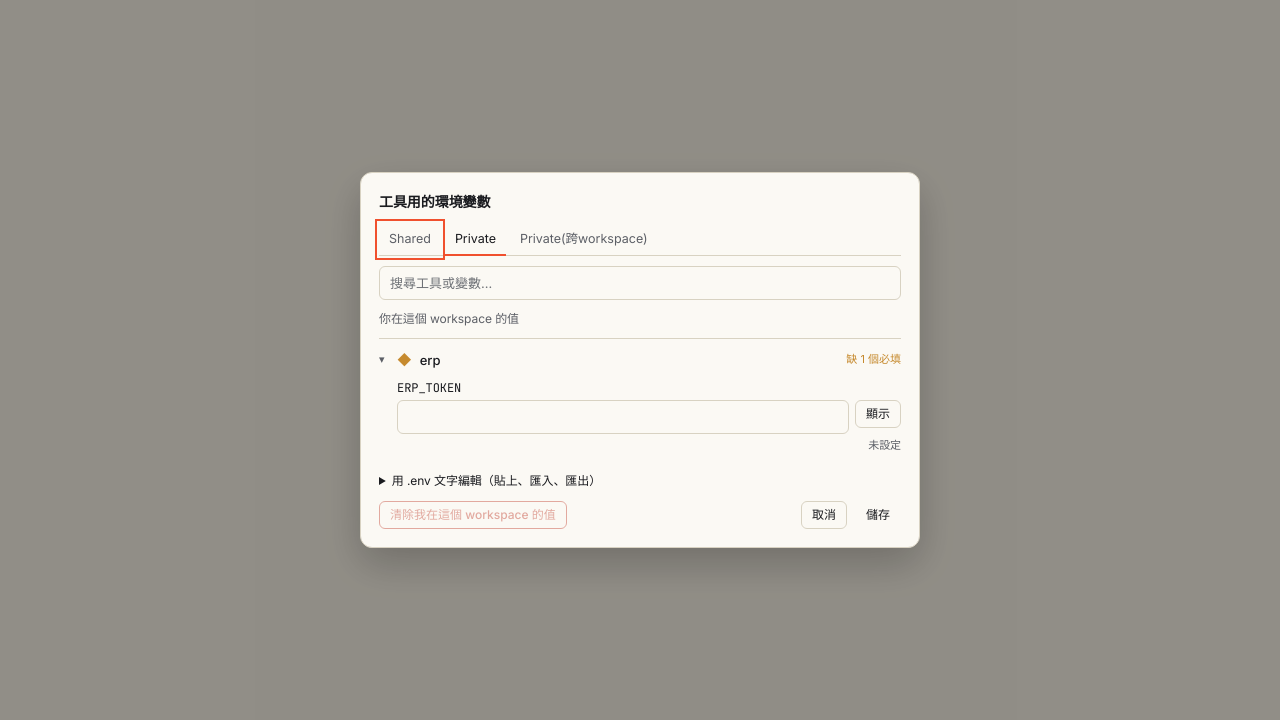
Test: the copy › says what each private tab holds, in one noun
Check: the text "你在這個 workspace 的值" is shown, box [379, 311, 519, 326]
Click the tab "Private(跨workspace)".
click(584, 239)  # box [510, 223, 658, 256]
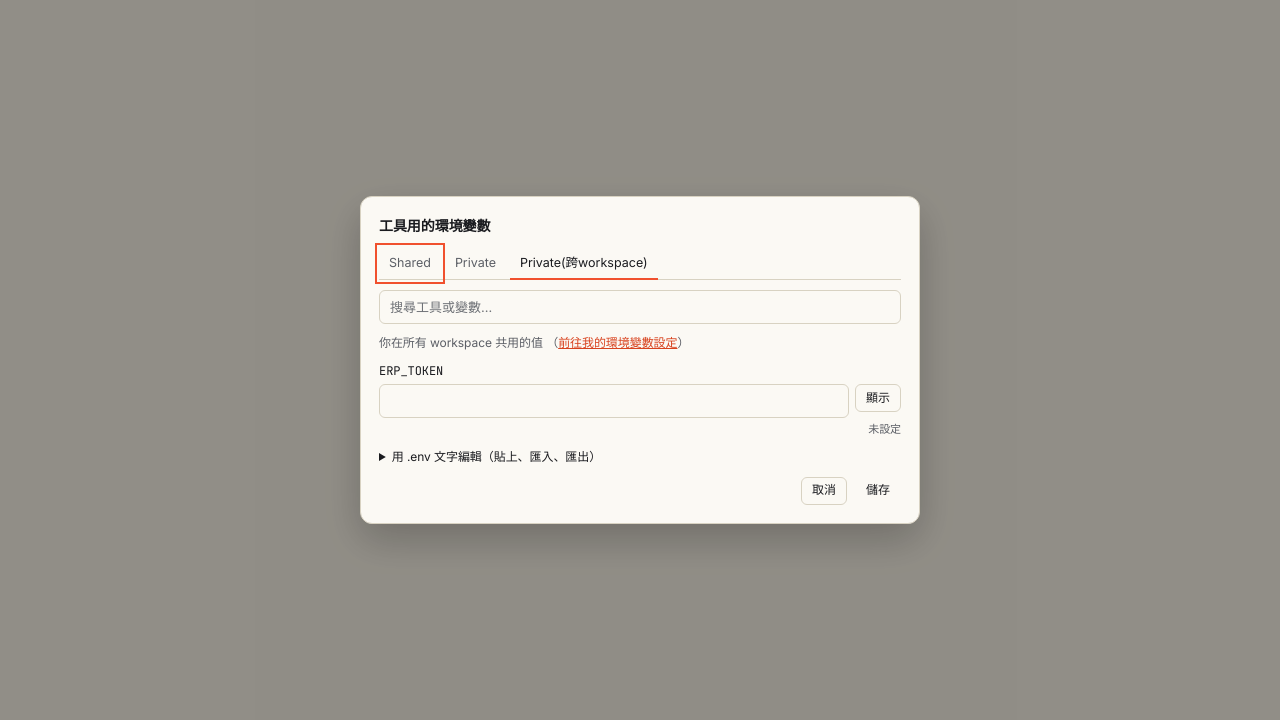
Check: the text "你在所有 workspace 共用的值 （ 前往我的環境變數設定 ）" is shown, box [379, 335, 689, 350]
Check: the link with test id "env-personal-page" reads "前往我的環境變數設定", box [558, 335, 677, 350]
